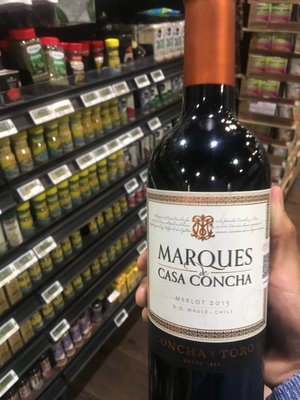marques de casa concha merlot: (139, 8, 280, 400)
